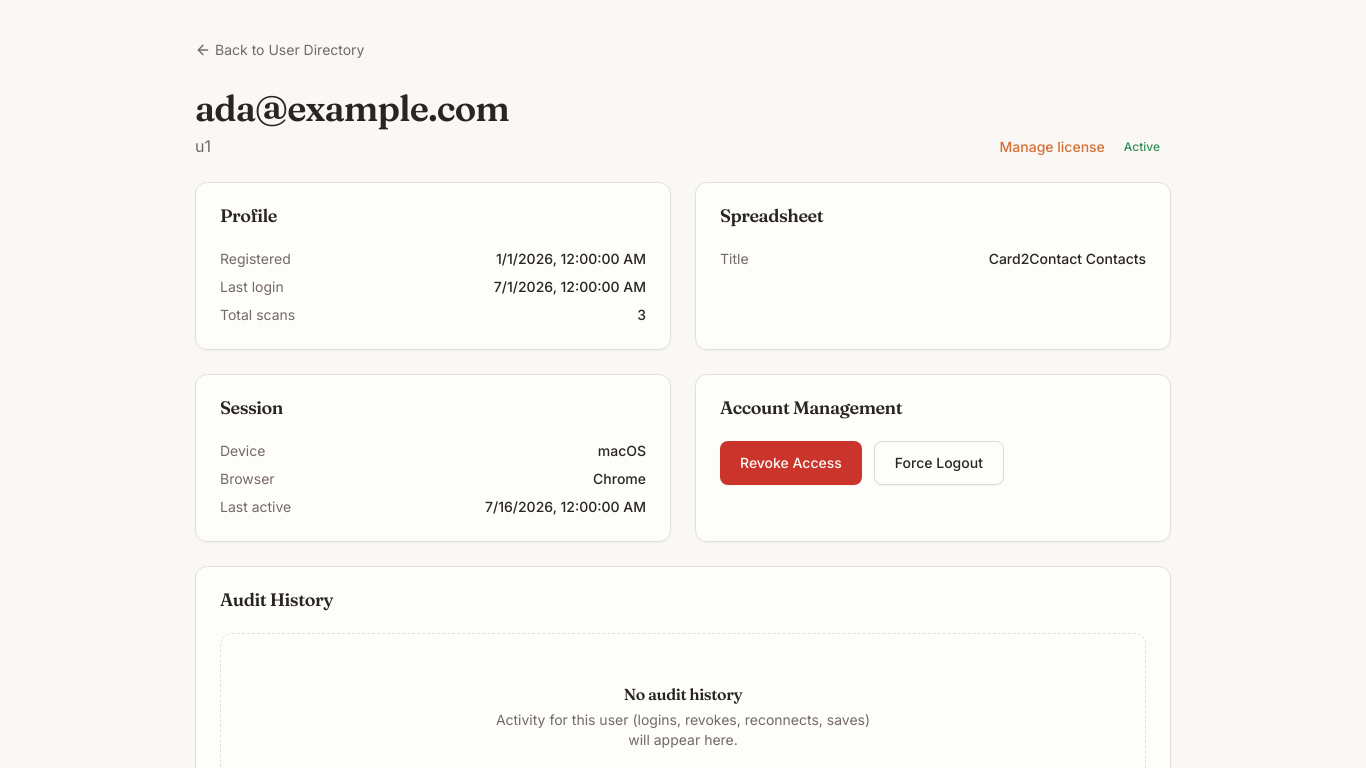
AdminUserDetail › clicking Revoke Access opens a confirm dialog with no reason/note input
Step 1. Click the button "Revoke Access" → (791, 463), box x1=720 y1=441 x2=862 y2=485
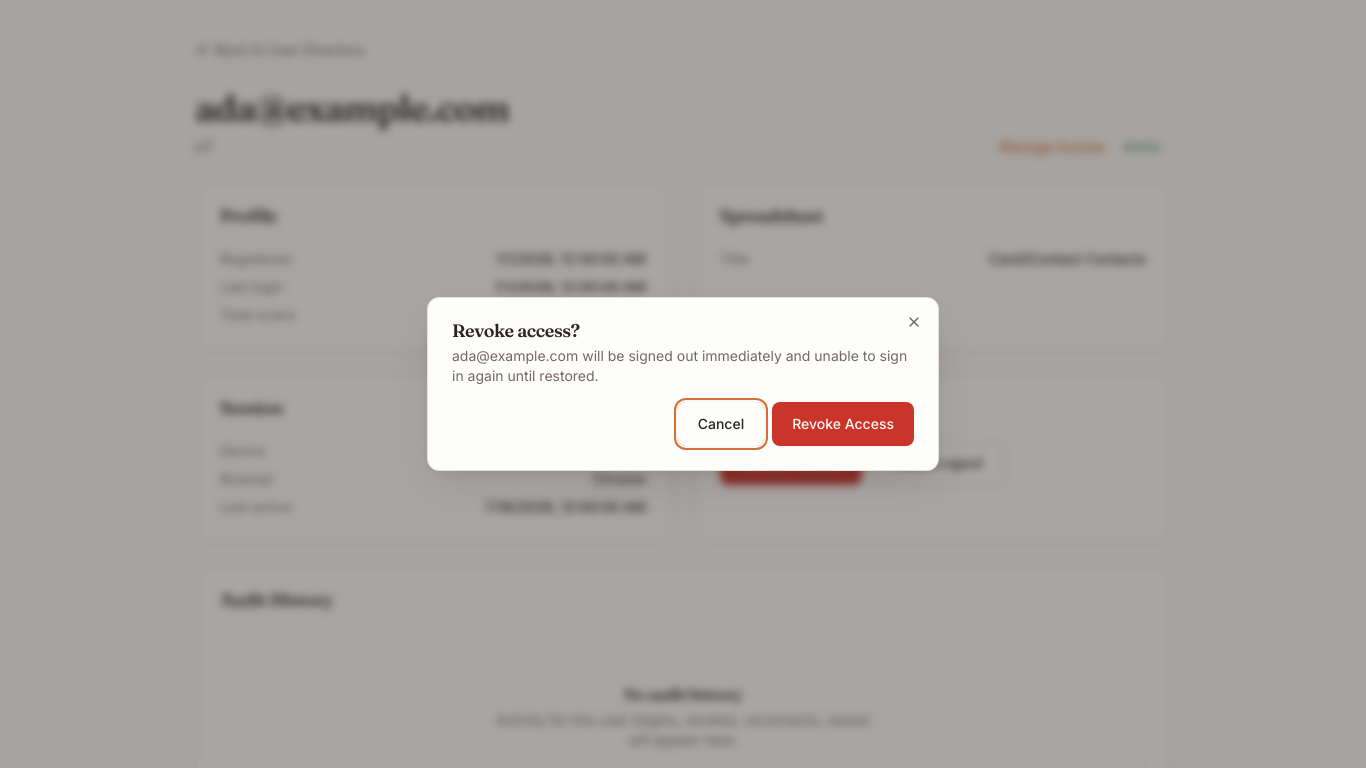
Now the dialog is shown, box x1=427 y1=297 x2=939 y2=471
